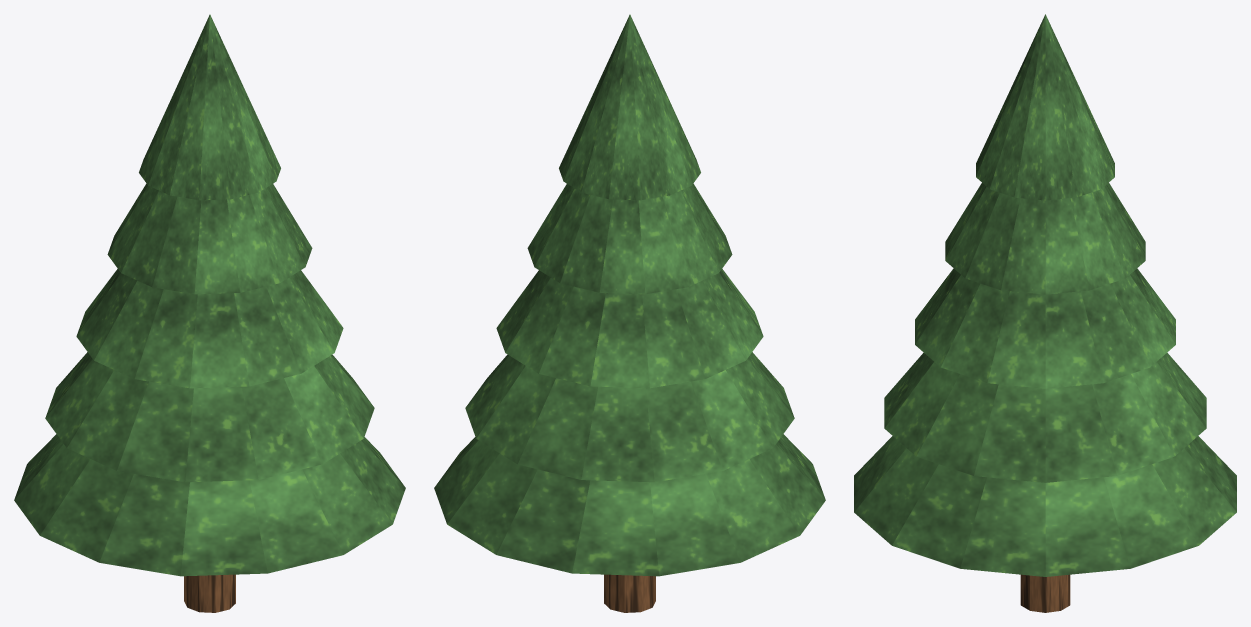
Rendered from PineTree_LOD1.fbx.
The picture shows the model from 3 angles, left to right: view 1: azimuth 30°, elevation 25°; view 2: azimuth 150°, elevation 25°; view 3: azimuth 270°, elevation 25°; orthographic projection.
Visible parts, largest first — view 1: PineTree_LOD1; view 2: PineTree_LOD1; view 3: PineTree_LOD1.
Part boxes in pixels (x1,y1,x2,y2): PineTree_LOD1: [14, 14, 405, 612]; PineTree_LOD1: [434, 14, 825, 612]; PineTree_LOD1: [854, 14, 1236, 612].
Size of the model in its own units: 3.3 by 5.45 by 3.22.
2 materials, 2 textured.
